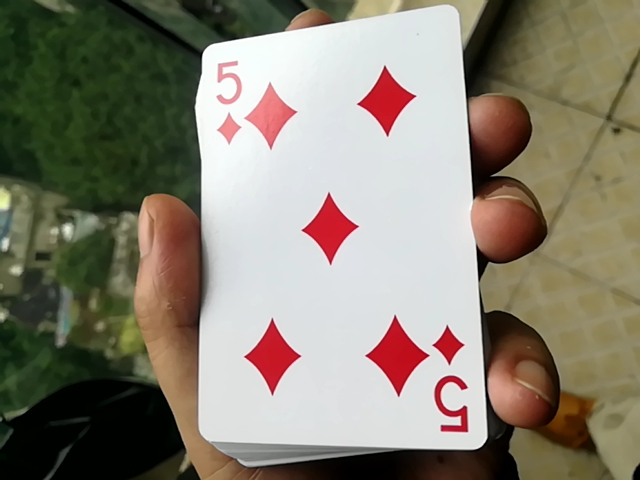fk 5: (180, 0, 489, 447)
